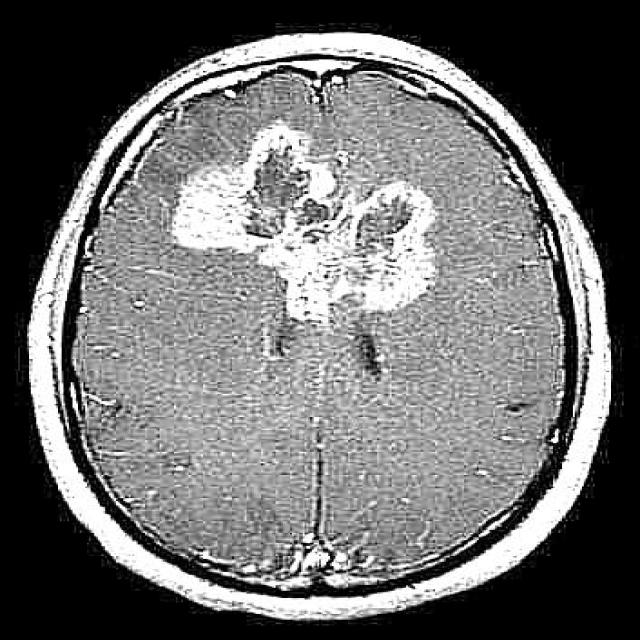Tumor-Cell: (141, 120, 434, 320)
